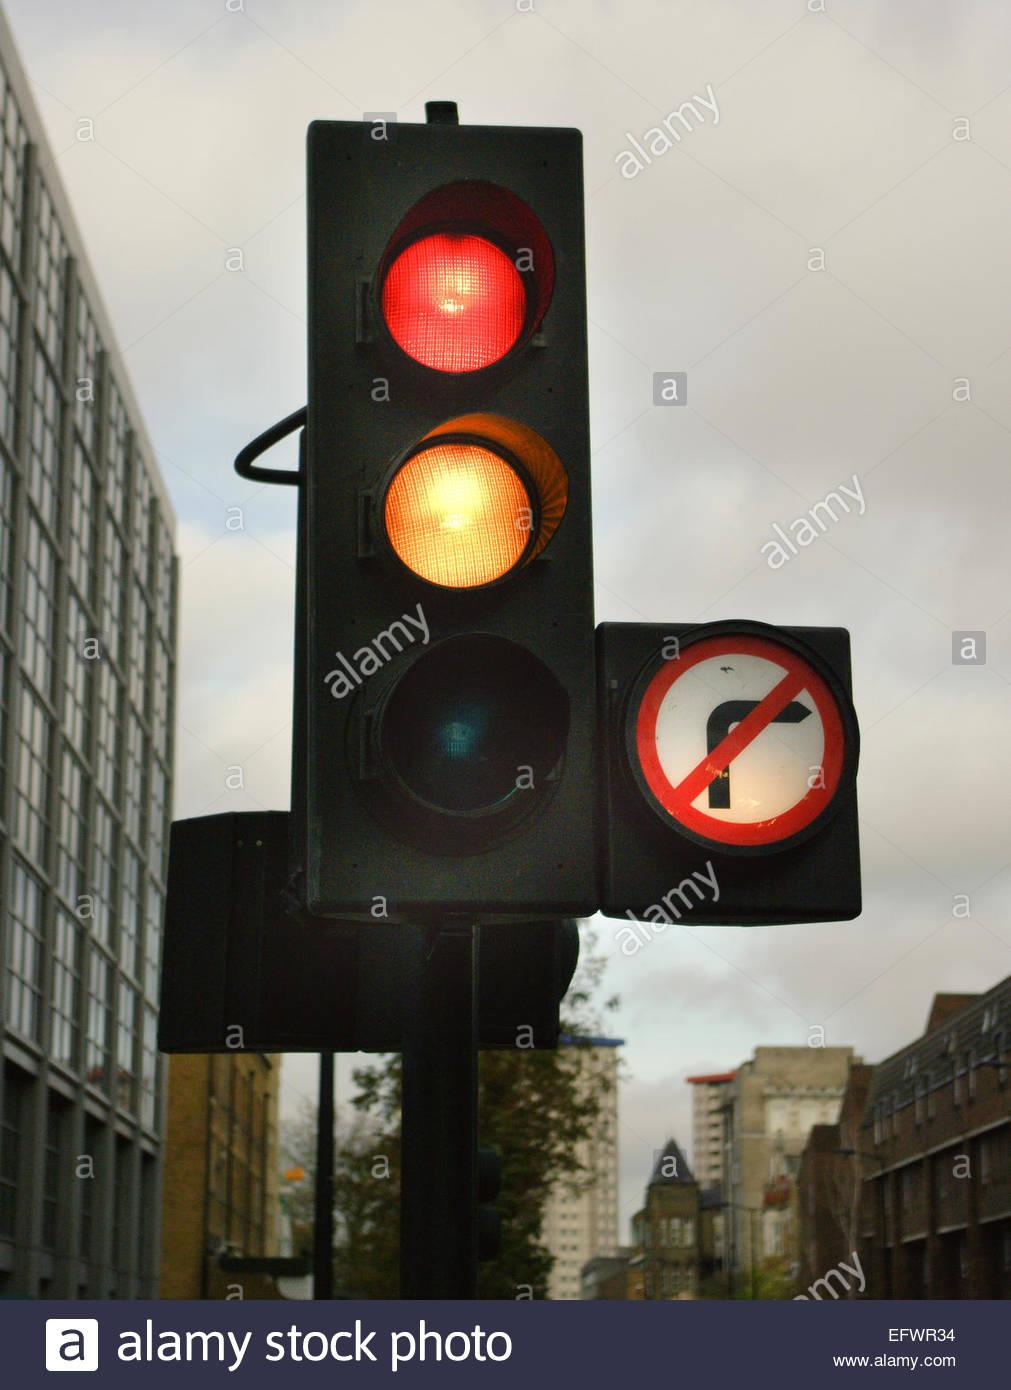no_right_turn: (633, 636, 846, 845)
